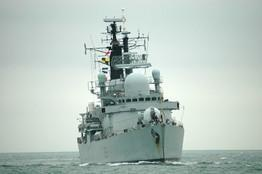warship: (75, 7, 187, 169)
